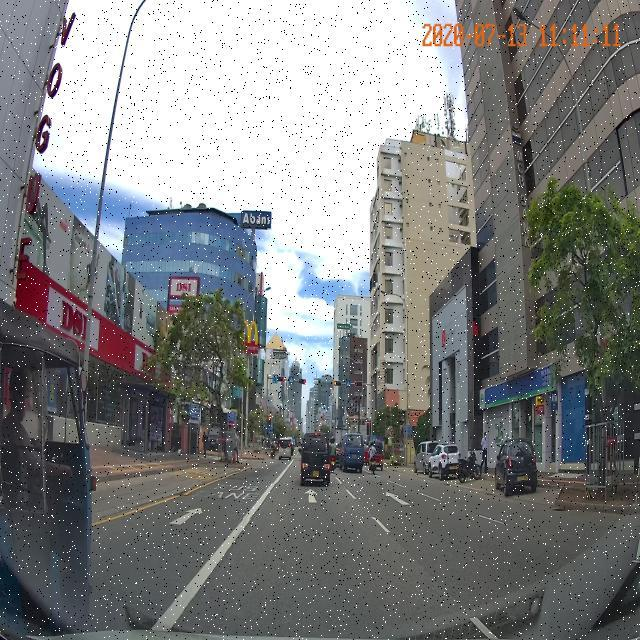forward: (238, 483, 381, 519)
